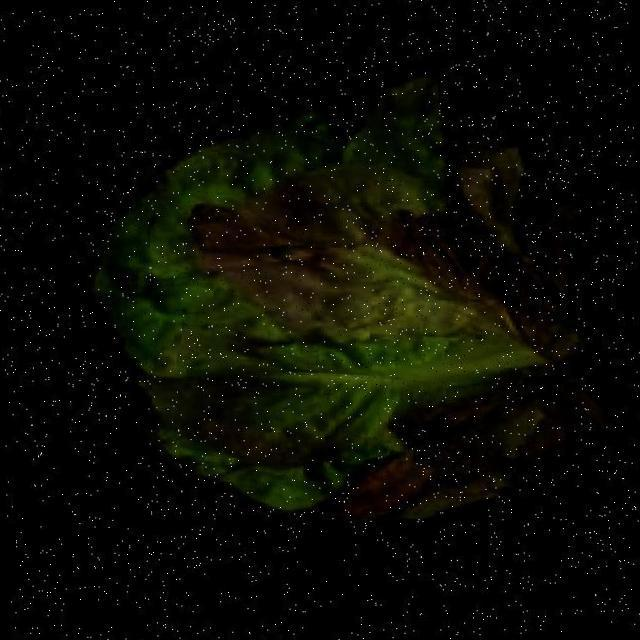Downy_mildew_on_lettuce: (147, 147, 593, 510)
